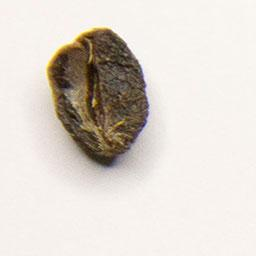defect: (44, 25, 152, 168)
